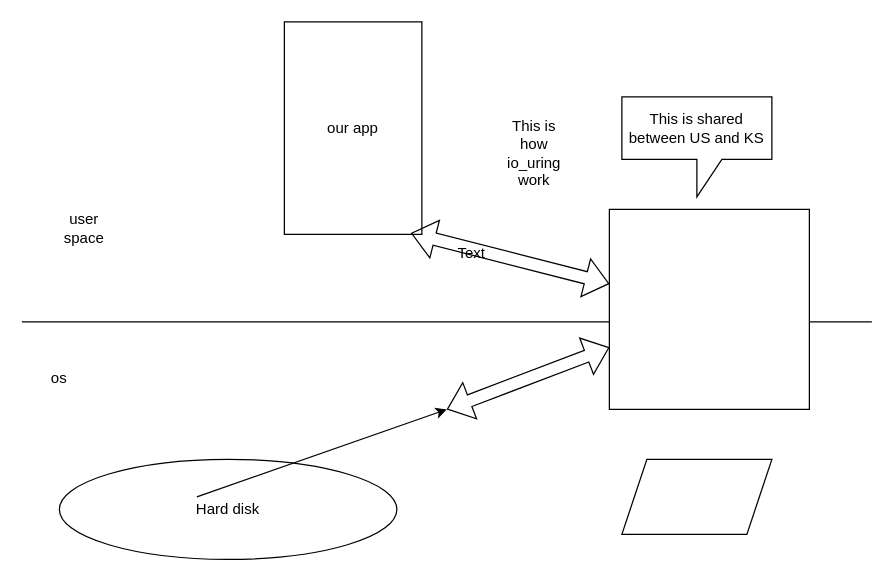
This 895x581 diagram has some shape labels left out. The centre of each missing label's shape, as x and y in pixels:
"Network" goes at point 696,496.
"Submittion queue + Completion queue" goes at point 708,308.
